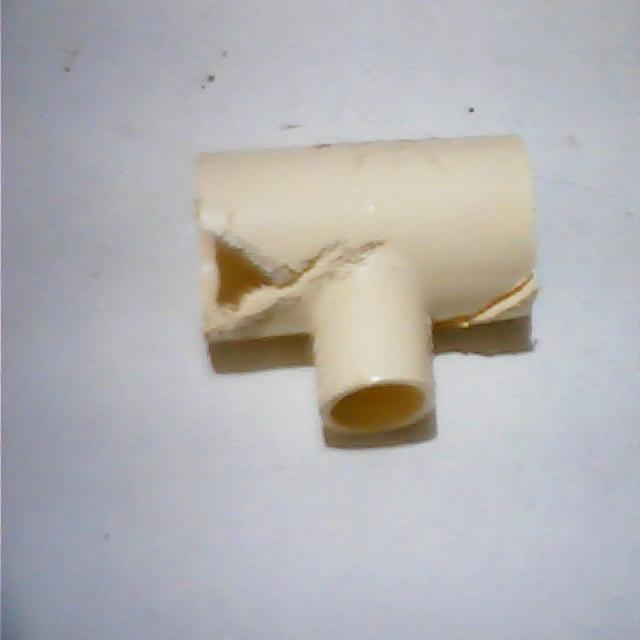Defective: (172, 174, 296, 350), (457, 266, 547, 334)
T Joint: (196, 135, 537, 436)
